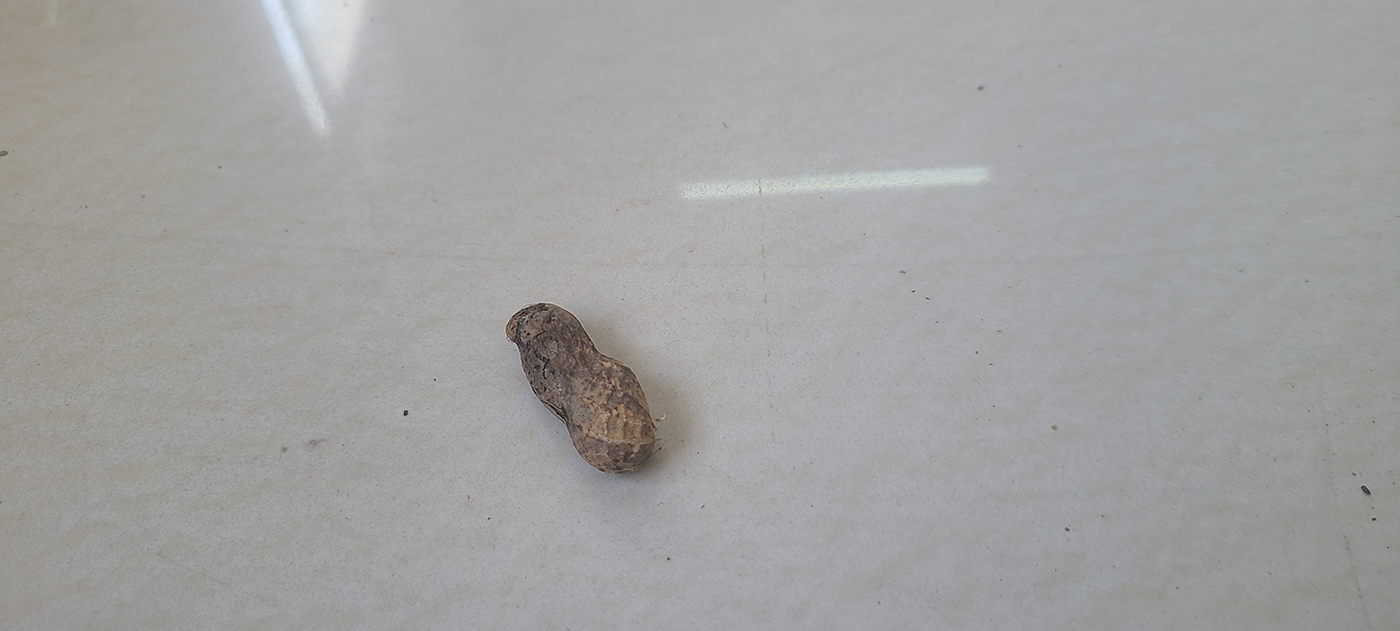l: (507, 302, 659, 476)
